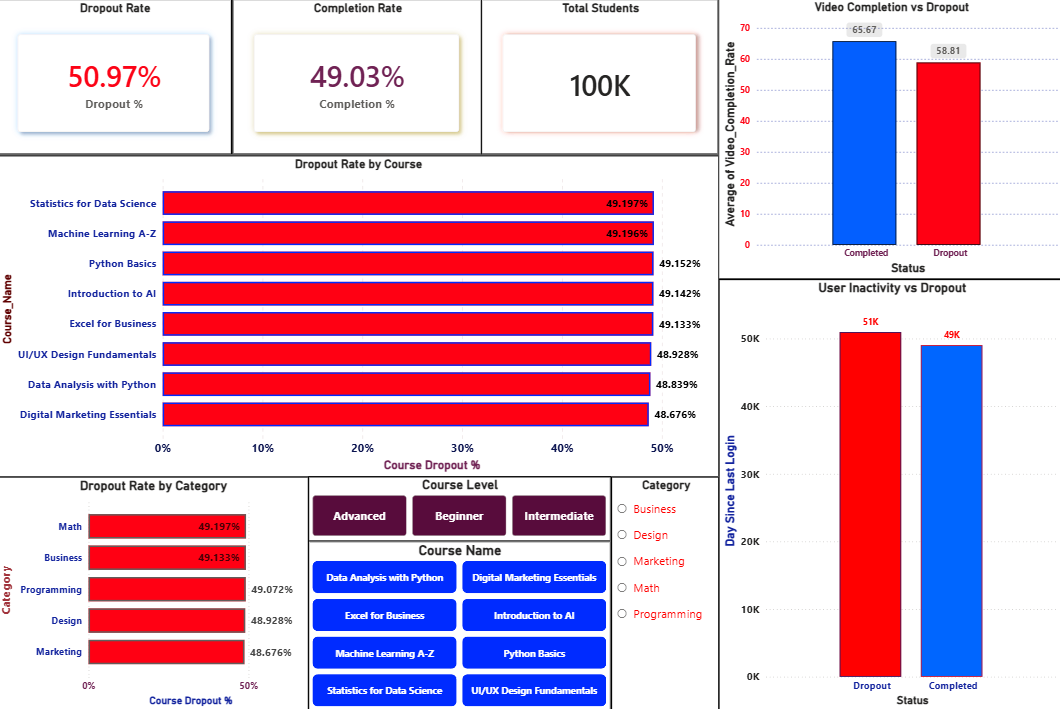

The page's visual inventory and layout, read from the dashboard file:
{"tool":"powerbi","page":{"name":"Final Dashboard","canvas":[1500,1000],"ordinal":4},"visuals":[{"type":"cardVisual","title":"Total Students","fields":{"Data":["CountNonNull(final_data.Student_ID)"]},"box":[681.5,0,333.3,218.5],"z":0},{"type":"cardVisual","title":"Dropout Rate","fields":{"Data":["final_data.Dropout %"]},"box":[0,0,331.5,218.5],"z":1000},{"type":"cardVisual","title":"Completion Rate","fields":{"Data":["final_data.Completion %"]},"box":[331.5,0,350,218.5],"z":2000},{"type":"clusteredBarChart","title":"Dropout Rate by Course","fields":{"Category":["final_data.Course_Name"],"Y":["final_data.Course Dropout %"]},"box":[0,218.5,1014.8,451.9],"z":3000},{"type":"clusteredBarChart","title":"Dropout Rate by Category","fields":{"Y":["final_data.Course Dropout %"],"Category":["final_data.Category"]},"box":[0,670.4,438.9,329.6],"z":4000},{"type":"clusteredColumnChart","title":"Video Completion vs Dropout","fields":{"Y":["Avg(final_data.Video_Completion_Rate)"],"Category":["final_data.Status"]},"box":[1014.8,0,485.2,392.6],"z":5000},{"type":"clusteredColumnChart","title":"User Inactivity vs Dropout","fields":{"Category":["final_data.Status"],"Y":["CountNonNull(final_data.Days_Since_Last_Login)"]},"box":[1014.8,392.6,485.2,607.4],"z":6000},{"type":"advancedSlicerVisual","title":"Course Name","fields":{"Values":["final_data.Course_Name"]},"box":[438.9,761.1,424.1,238.9],"z":7000},{"type":"listSlicer","fields":{"Values":["final_data.Category"]},"box":[863,670.4,151.9,329.6],"z":8000},{"type":"advancedSlicerVisual","title":"Course Level","fields":{"Values":["final_data.Course_Level"]},"box":[438.9,670.4,424.1,90.7],"z":9000}]}

Visuals, with their boxes in screenshot pixels (x1, y1, x2, y2), scaled from the page's 1500x1000 canvas onto the 1060x709 screenshot:
"Total Students" cardVisual: <bbox>482, 0, 717, 155</bbox>
"Dropout Rate" cardVisual: <bbox>0, 0, 234, 155</bbox>
"Completion Rate" cardVisual: <bbox>234, 0, 482, 155</bbox>
"Dropout Rate by Course" clusteredBarChart: <bbox>0, 155, 717, 475</bbox>
"Dropout Rate by Category" clusteredBarChart: <bbox>0, 475, 310, 708</bbox>
"Video Completion vs Dropout" clusteredColumnChart: <bbox>717, 0, 1059, 278</bbox>
"User Inactivity vs Dropout" clusteredColumnChart: <bbox>717, 278, 1059, 708</bbox>
"Course Name" advancedSlicerVisual: <bbox>310, 540, 610, 708</bbox>
listSlicer - final_data.Category: <bbox>610, 475, 717, 708</bbox>
"Course Level" advancedSlicerVisual: <bbox>310, 475, 610, 540</bbox>
